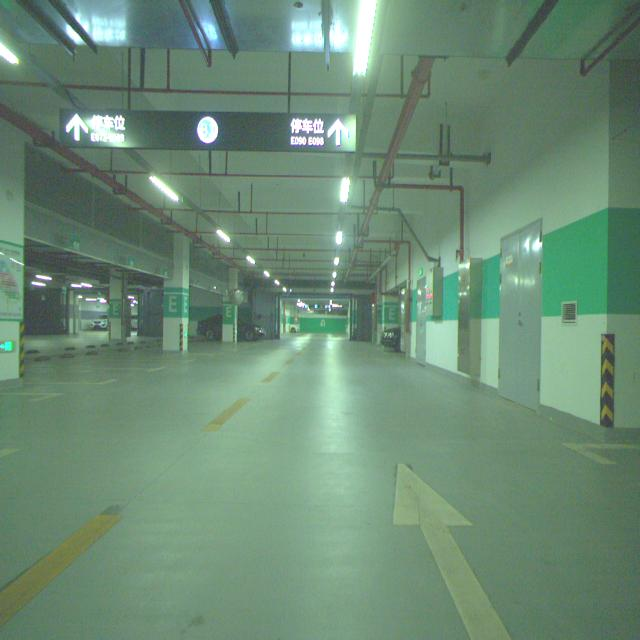pillar: (162, 233, 190, 352), (124, 281, 126, 284)
